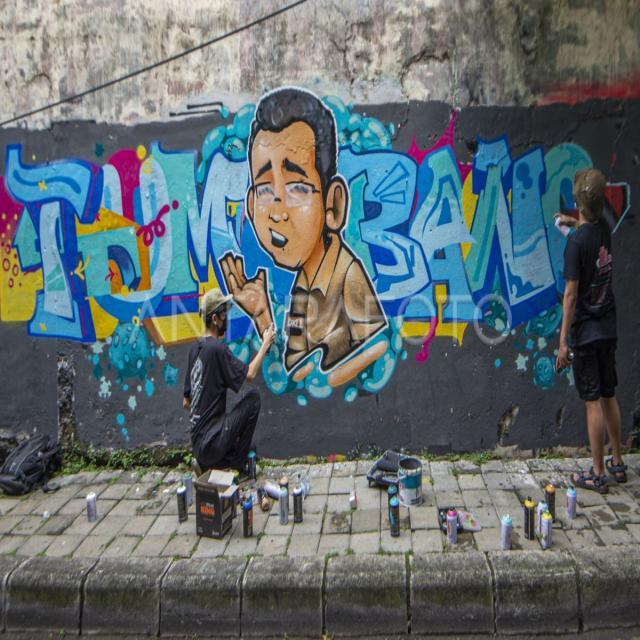-: (0, 90, 633, 369)
